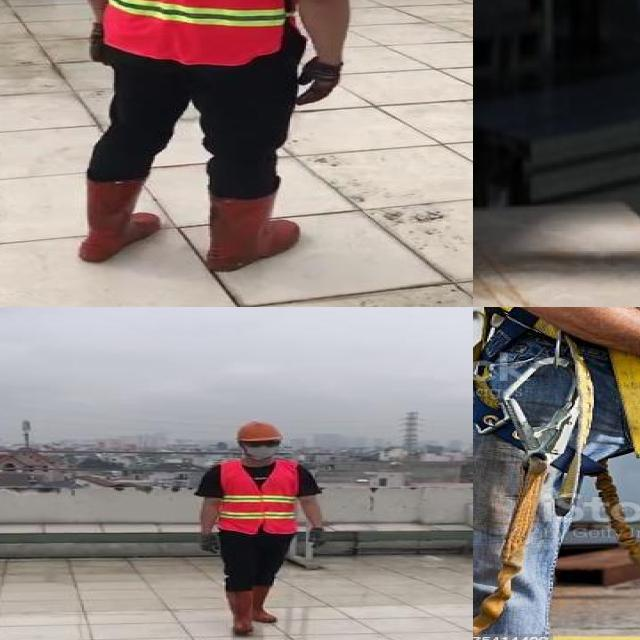Harness: (473, 356, 578, 635)
boots: (204, 189, 300, 272), (78, 174, 162, 263), (221, 588, 258, 636), (254, 589, 280, 621)
face_mask: (241, 438, 282, 460)
glasses: (238, 438, 284, 450)
hand_glove: (299, 59, 340, 107), (304, 528, 329, 550), (91, 20, 101, 62), (201, 532, 221, 553)
head_helmet: (232, 422, 286, 444)
person: (41, 0, 379, 274), (190, 417, 334, 640)
vest: (100, 0, 308, 63), (219, 460, 297, 534)
